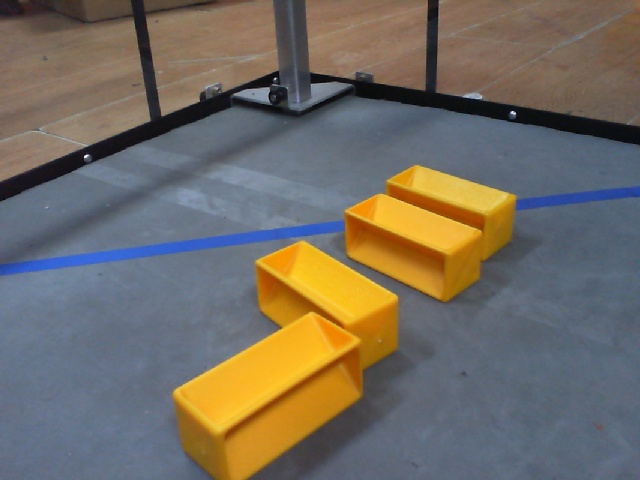YellowSample: (164, 309, 364, 480), (250, 238, 412, 368), (340, 190, 489, 307), (384, 157, 519, 265)
